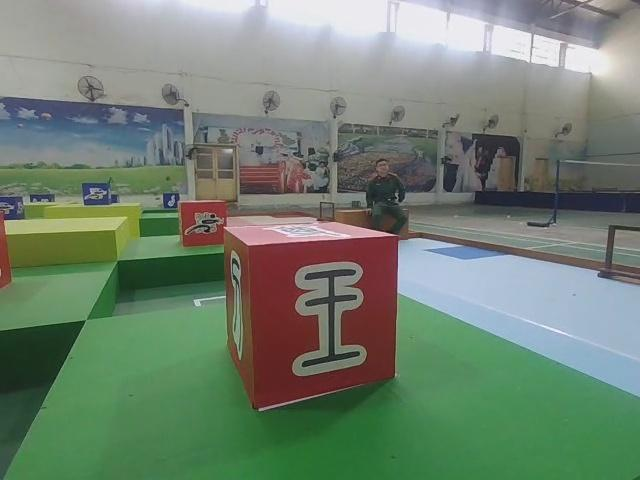R1: (176, 197, 229, 250)
R2 Fake: (222, 217, 402, 413)
